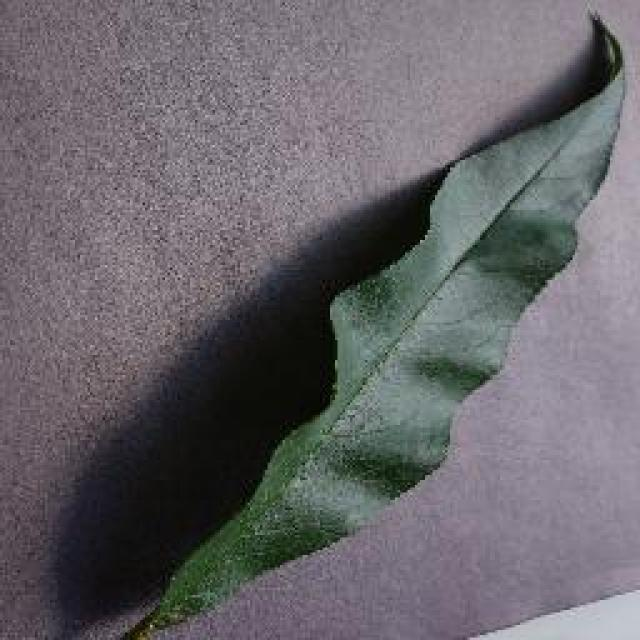Pea_healthy: (225, 85, 613, 596)
